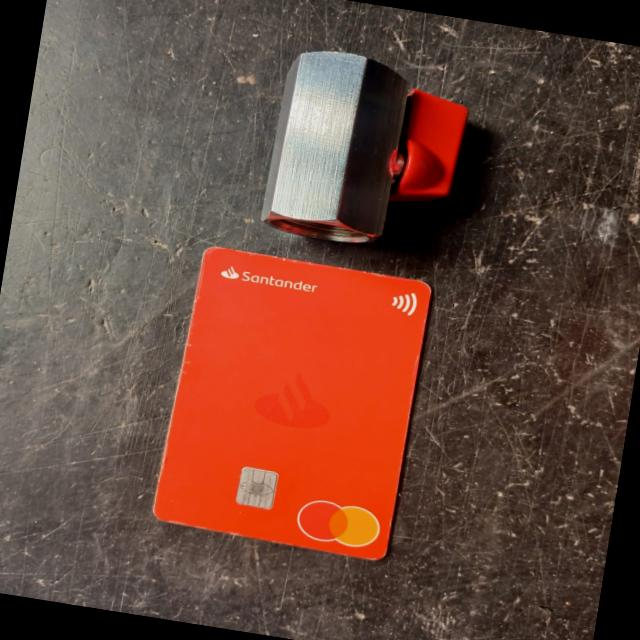cartao: (150, 244, 432, 562)
rosca_interna: (258, 45, 472, 258)
